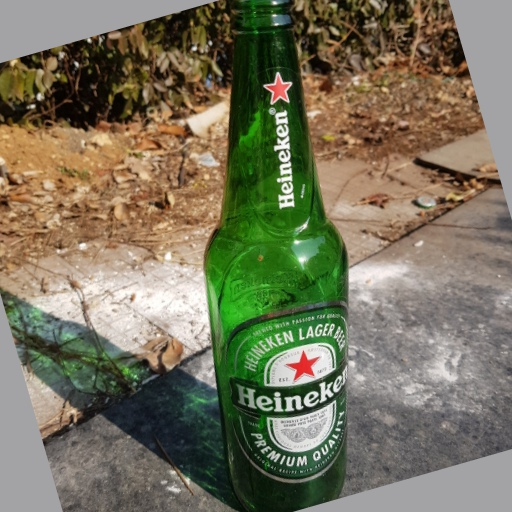Glass_1: (204, 1, 354, 512)
